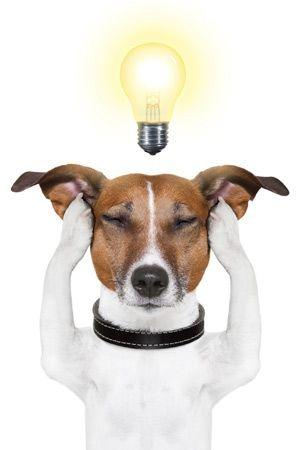adult_dog: (7, 156, 291, 450)
non-dog: (118, 41, 188, 155)
